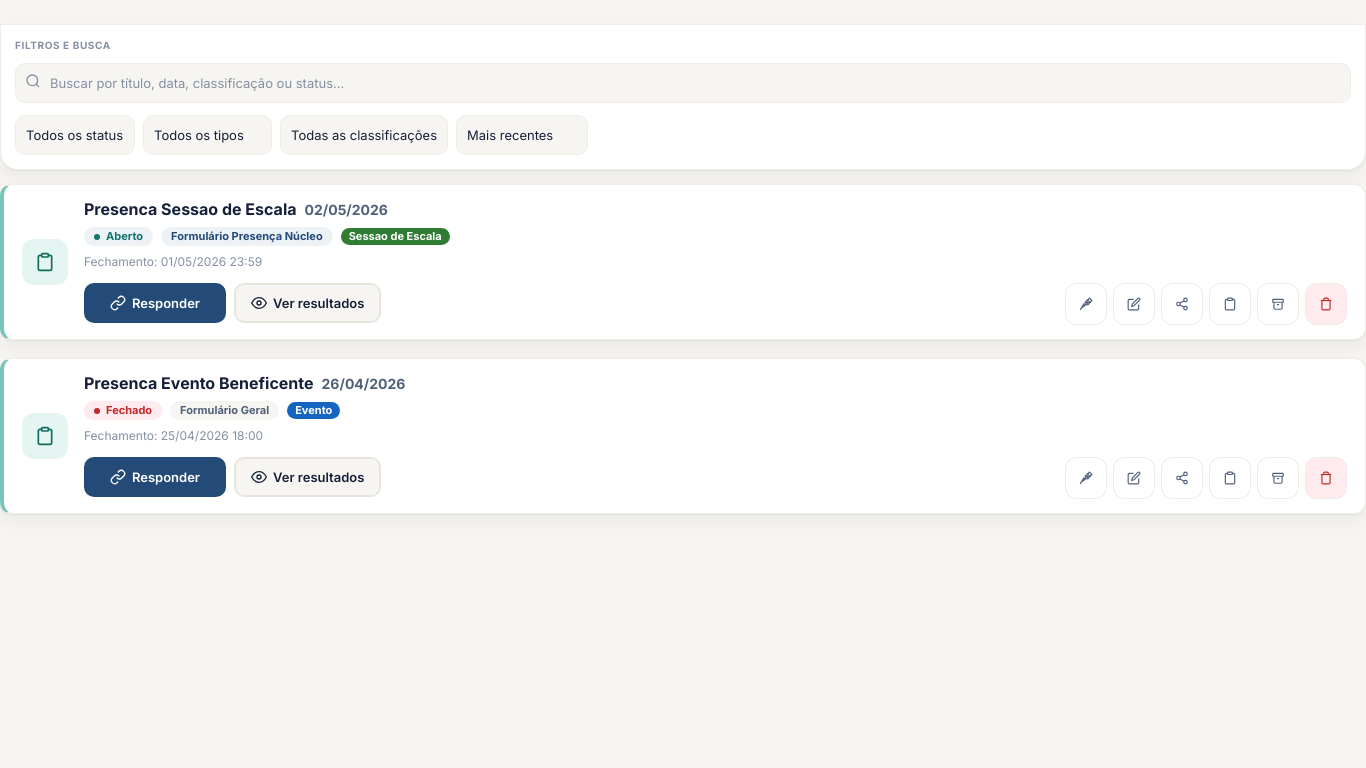
it: FormListScreen › orienta quando a chave mestra nao esta configurada
This screenshot has width=1366, height=768.
Click the 1st button named "Excluir": x=1326, y=304 [1305,283,1347,325]
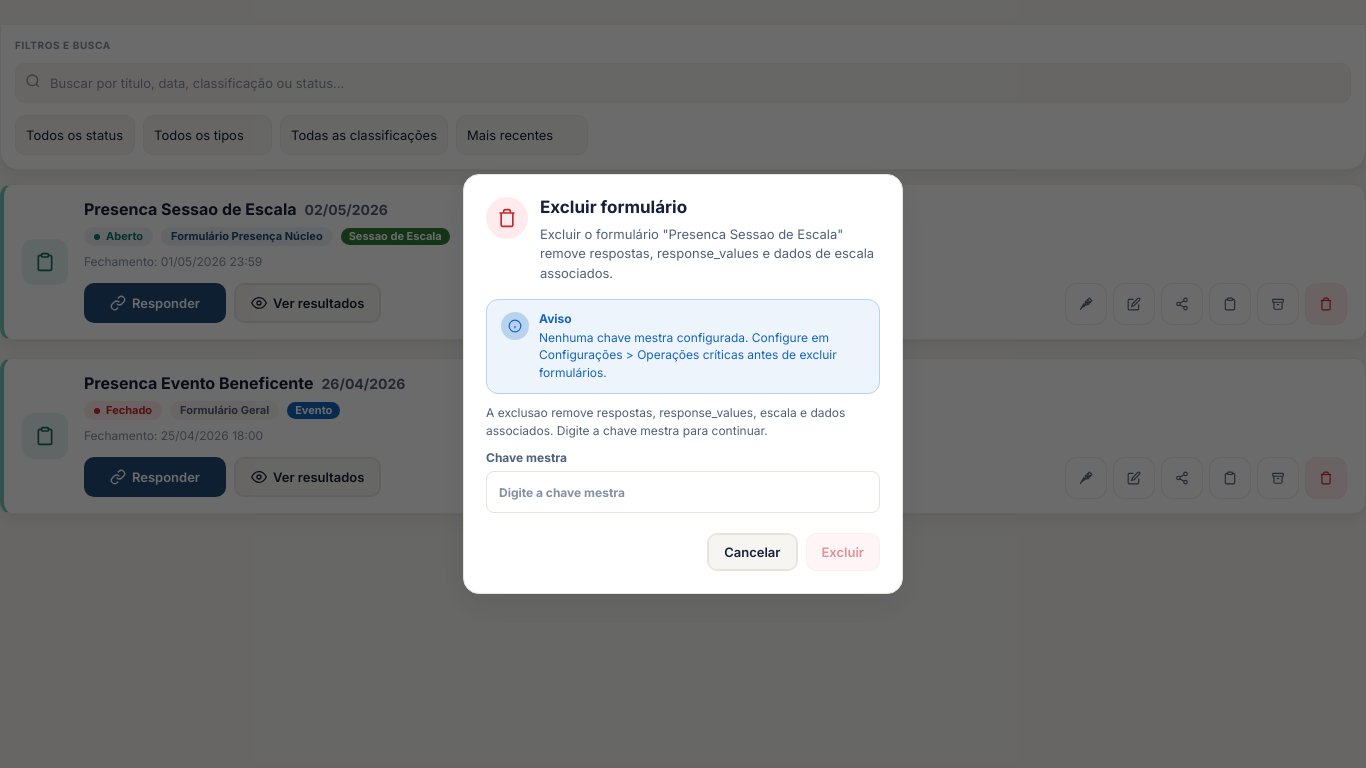
Result: the text "Nenhuma chave mestra configurada. Configure em Configurações > Operações críticas antes de excluir formulários." is shown at [539,330,837,380]
Result: the password field labelled "Chave mestra" is disabled at [486,471,880,513]
